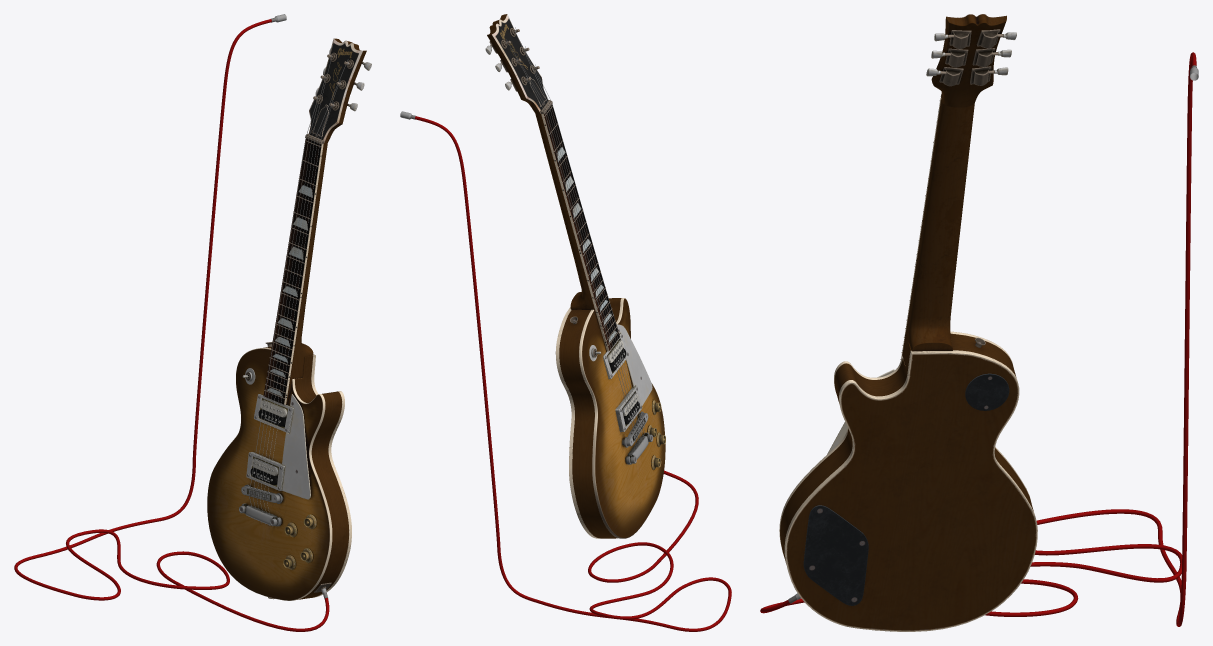
The model's file is gibson_guitar_optimised_meshopt.glb.
3 views of the same model, side by side, from view 1: azimuth 30°, elevation 25°; view 2: azimuth 150°, elevation 25°; view 3: azimuth 270°, elevation 25° (orthographic). The views are drawn at different scales.
Parts seen in each view (by area): view 1: Les_Paul_Body.001, Les_Paul_BodyCover.001, BezierCurve.001; view 2: Les_Paul_Body.001, Les_Paul_BodyCover.001, BezierCurve.001; view 3: Les_Paul_Body.001, BezierCurve.001, Les_Paul_BodyCover.001.
Part boxes in pixels (bbox=[...]): Les_Paul_Body.001: bbox=[239, 38, 371, 599]; Les_Paul_BodyCover.001: bbox=[207, 348, 332, 600]; BezierCurve.001: bbox=[14, 14, 329, 631]; Les_Paul_Body.001: bbox=[485, 14, 665, 538]; Les_Paul_BodyCover.001: bbox=[579, 298, 665, 538]; BezierCurve.001: bbox=[400, 111, 731, 631]; Les_Paul_Body.001: bbox=[780, 14, 1037, 631]; BezierCurve.001: bbox=[760, 52, 1198, 626]; Les_Paul_BodyCover.001: bbox=[779, 331, 1030, 555].
Size of the model in its own units: 0.5963 by 0.9895 by 0.5758.
8 materials, 7 textured.
